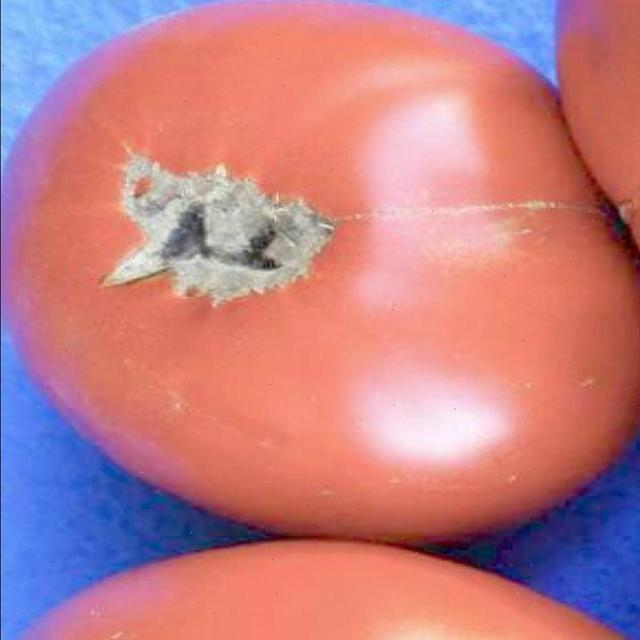Blossom End Rot Fruit: (60, 91, 225, 206)
